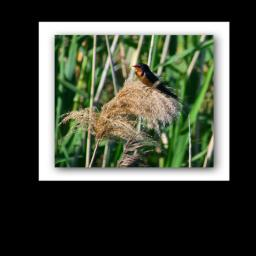Swallow: (130, 62, 184, 103)
